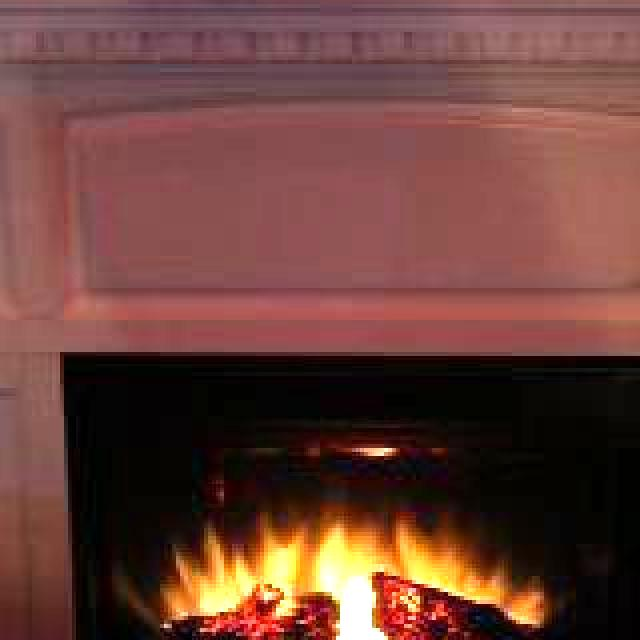fire: (120, 480, 572, 640)
